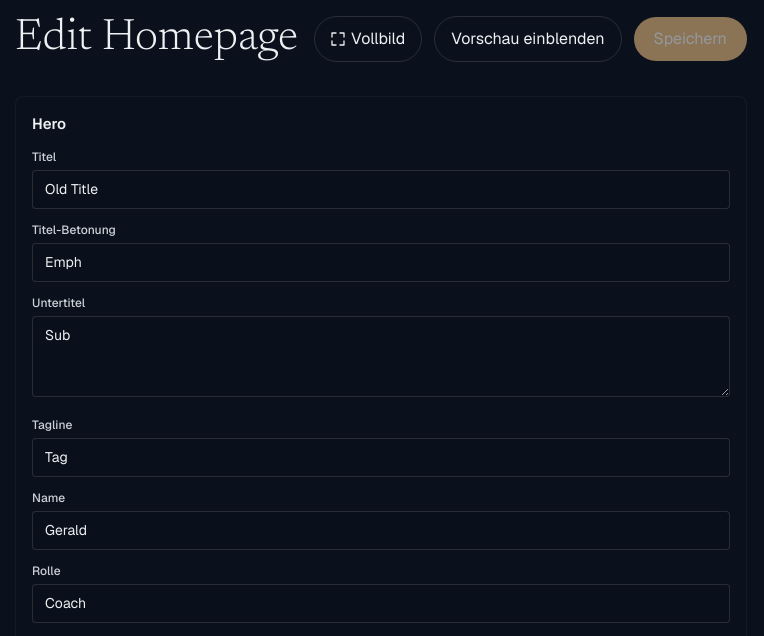
Test: HomepageEditorPage — save confirmation flow › disables Speichern until a block is actually changed
Expected: the button "Speichern" is disabled, [634,17,747,61]
Replace the text in the field showing "Old Title" with "New Title" at (381, 189), box [32,170,730,208]
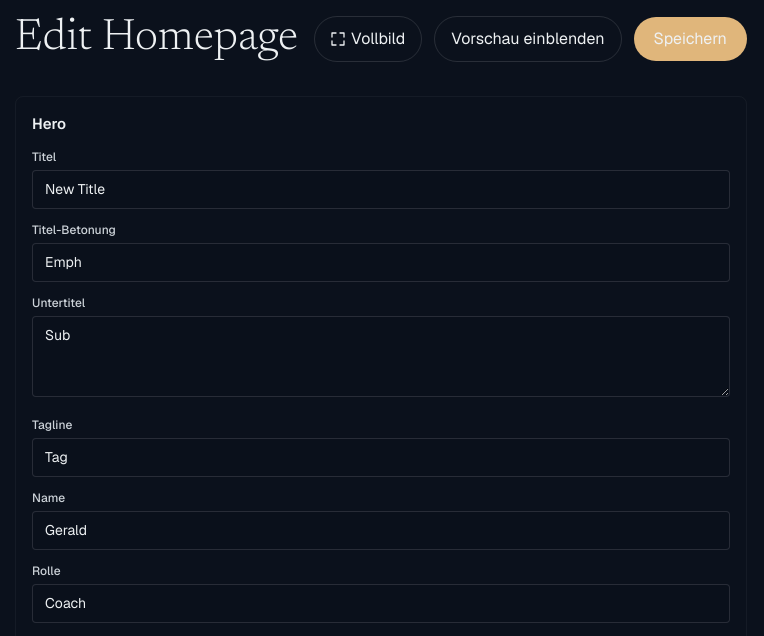
Now the button "Speichern" is enabled, box [634,17,747,61]
